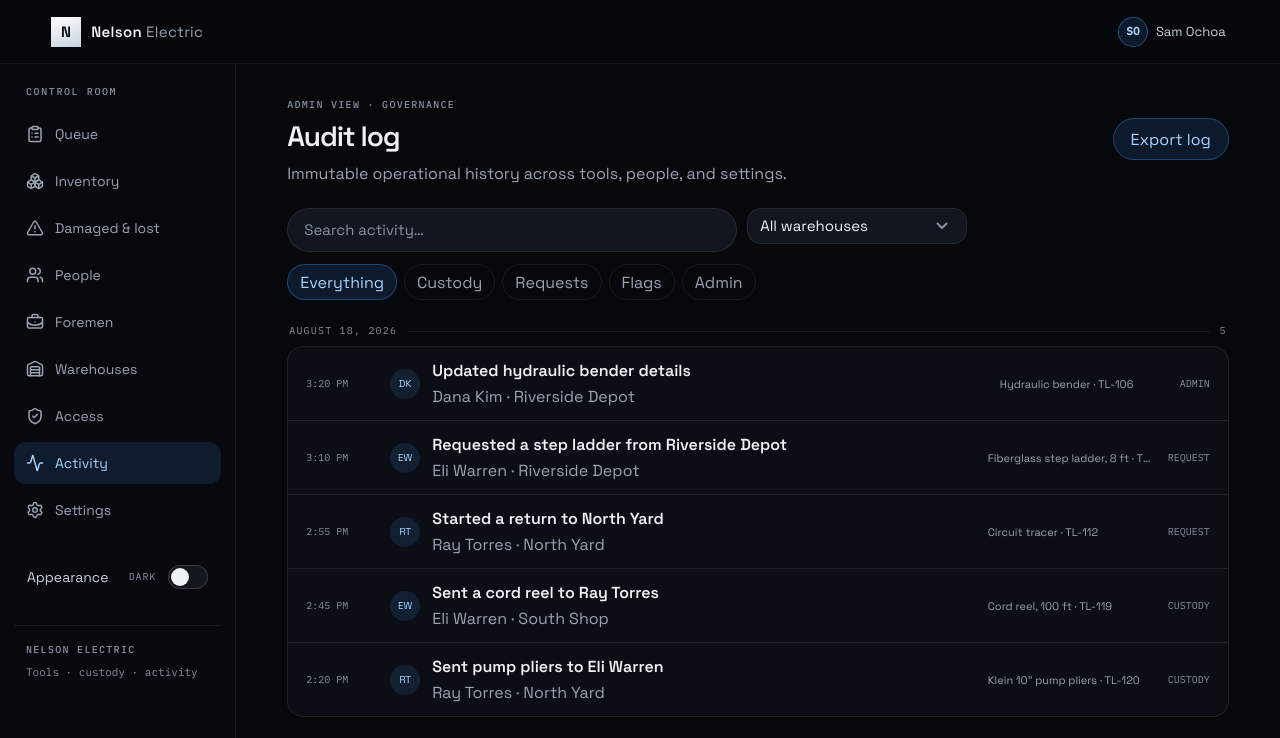
Test: admin activity surface › filters audit history by semantic kind and warehouse
Expected: the heading "Audit log" is shown, left=287, top=118, right=400, bottom=154
What coordinates should you click on to do the following:
click the button "Requests"
I would click on:
 (552, 282)
Its box is left=502, top=264, right=602, bottom=300.
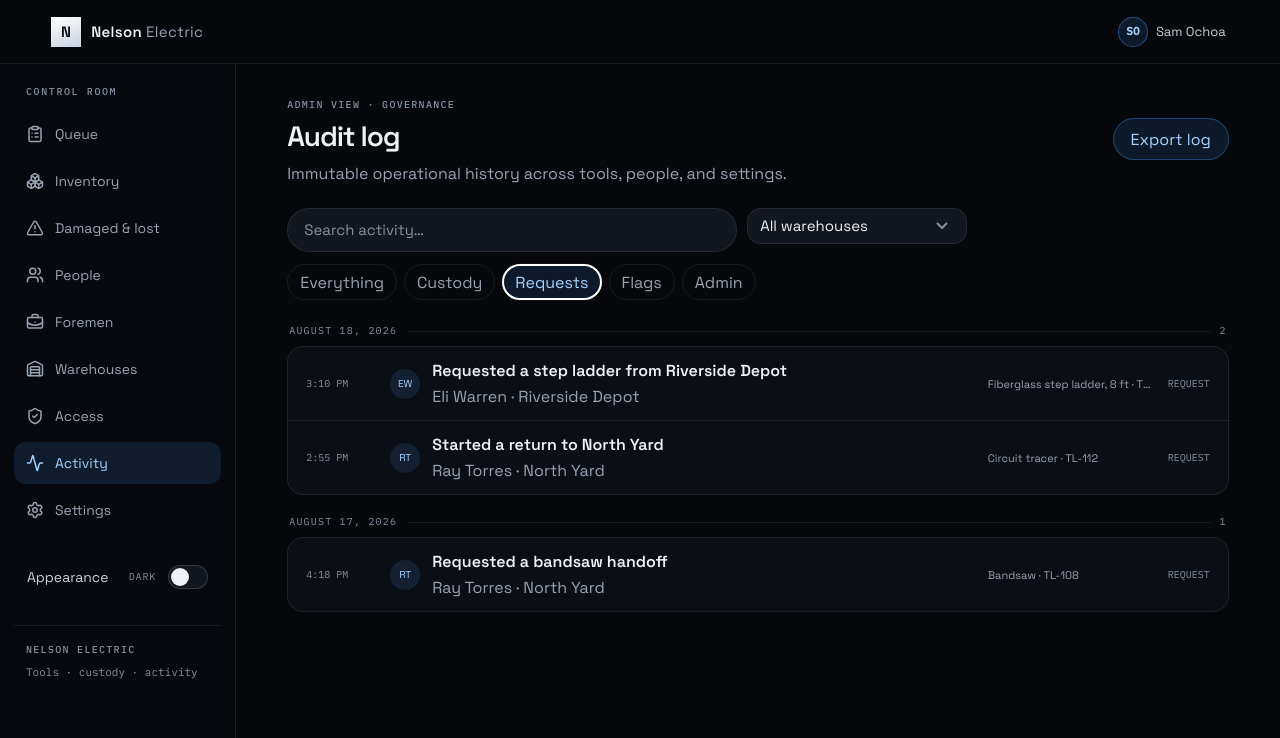
Expected: the text "Requested a bandsaw handoff" is shown, left=432, top=551, right=668, bottom=572
What coordinates should you click on to do the following:
click the button "Everything"
I would click on:
 (342, 282)
Its box is left=287, top=264, right=397, bottom=300.
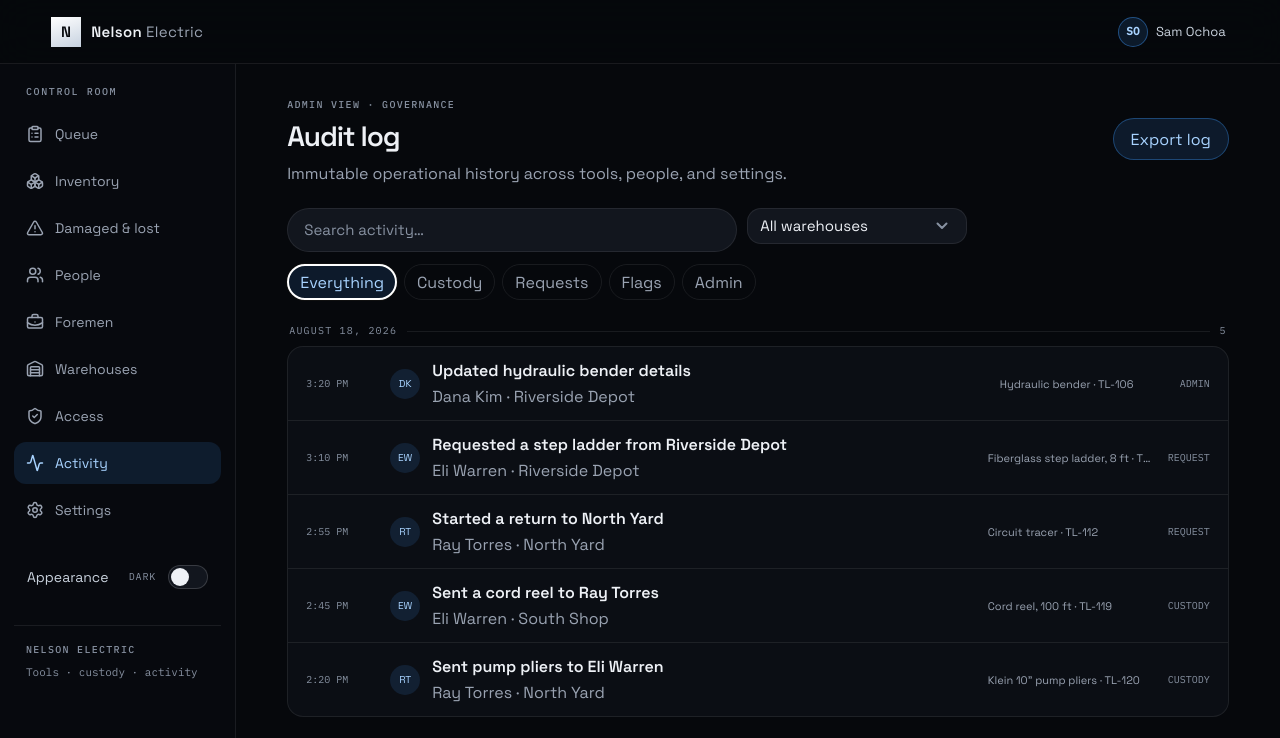
What coordinates should you click on to do the following:
click the dropdown labelled "warehouse"
I would click on:
 (857, 226)
Its box is left=760, top=217, right=954, bottom=235.
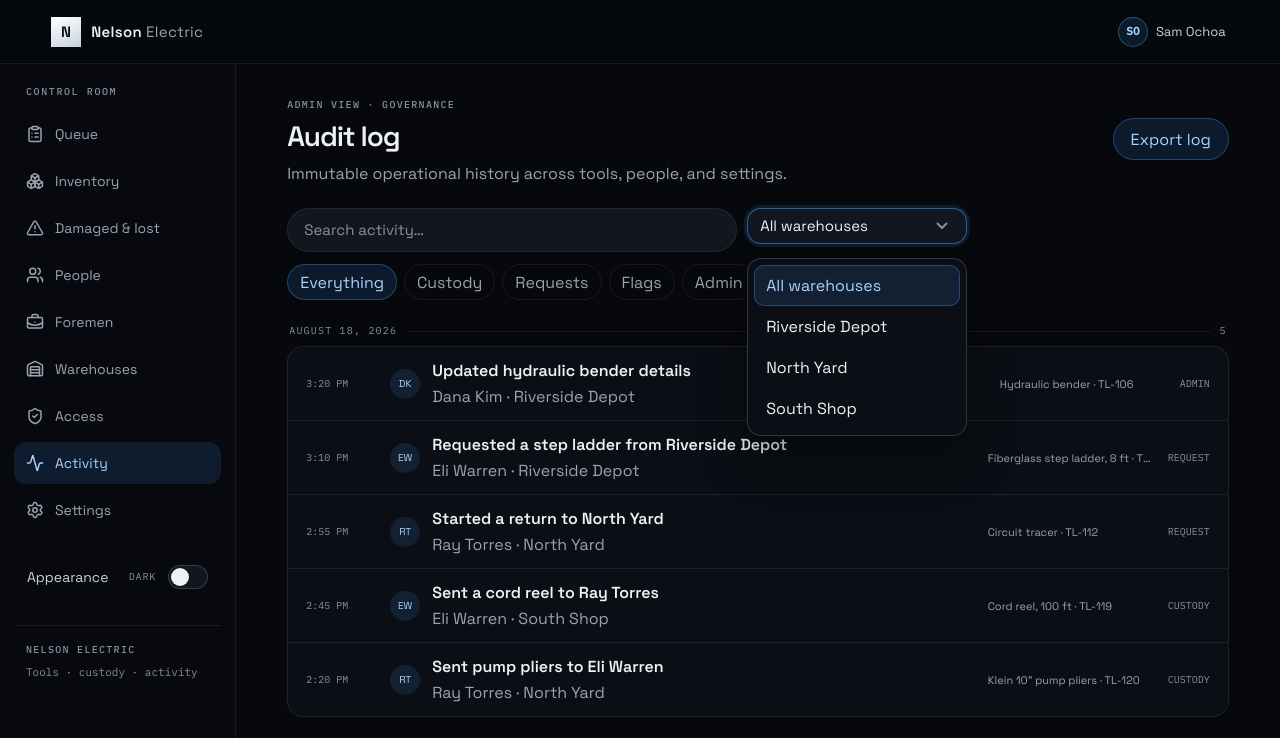
What coordinates should you click on to do the following:
click the option "North Yard"
I would click on:
 (807, 368)
Its box is left=766, top=357, right=848, bottom=378.
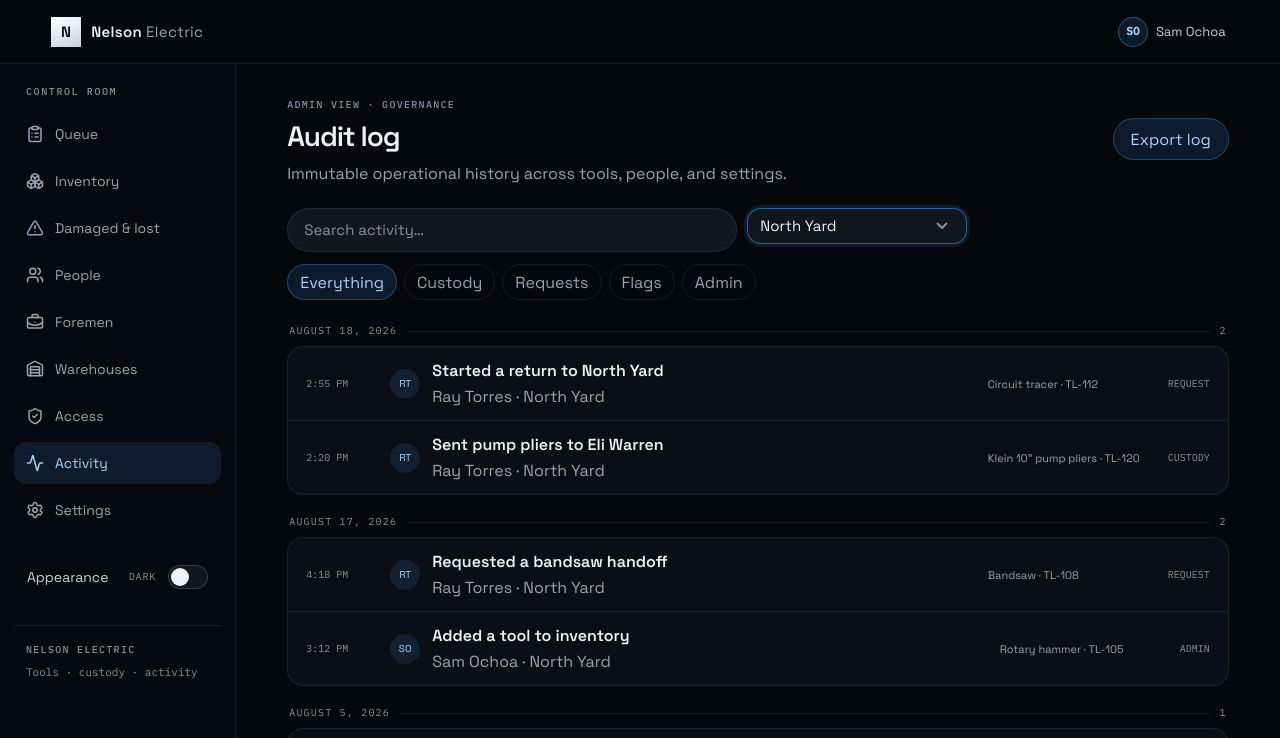
Expected: the text "Requested a bandsaw handoff" is shown, left=432, top=551, right=668, bottom=572
Expected: the text "Added a tool to inventory" is shown, left=432, top=625, right=630, bottom=646
